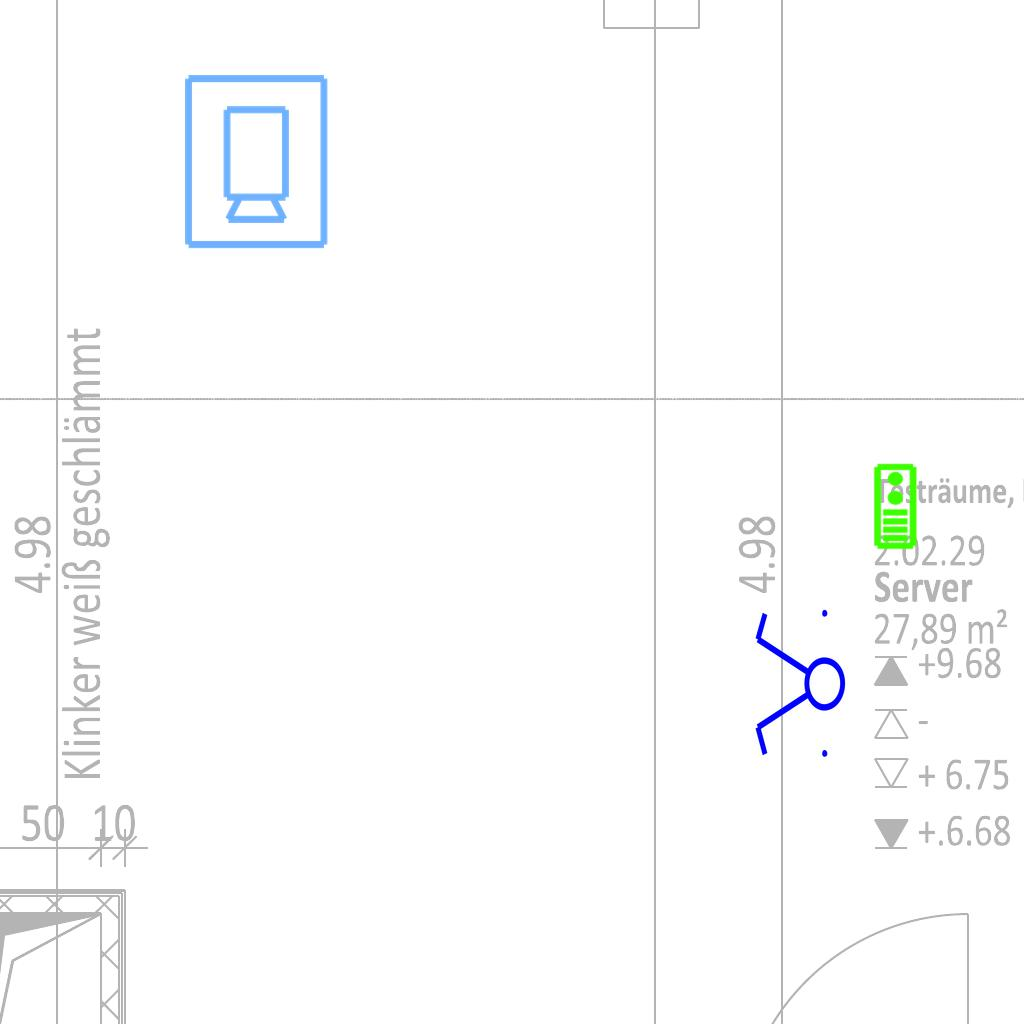Gegensprechanlage_mit_Video: (871, 462, 918, 550)
KFO_Kamera_mit_Festobjektiv: (178, 70, 332, 252)
Serienschalter: (751, 601, 847, 769)
